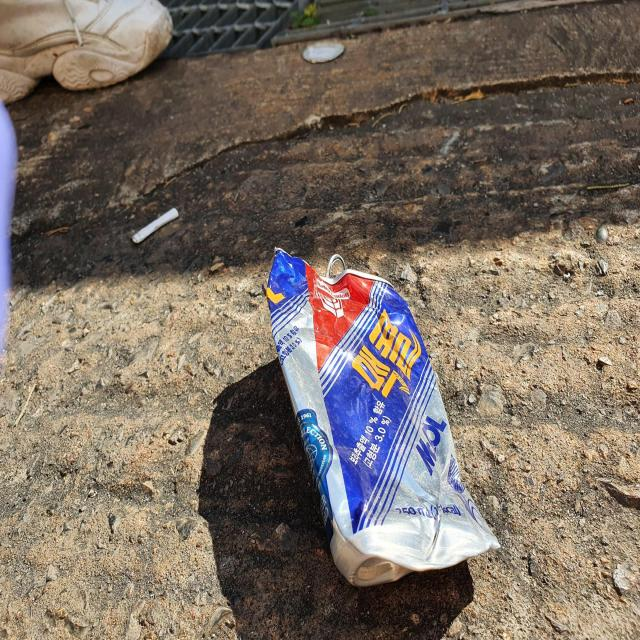can: (266, 248, 500, 587)
